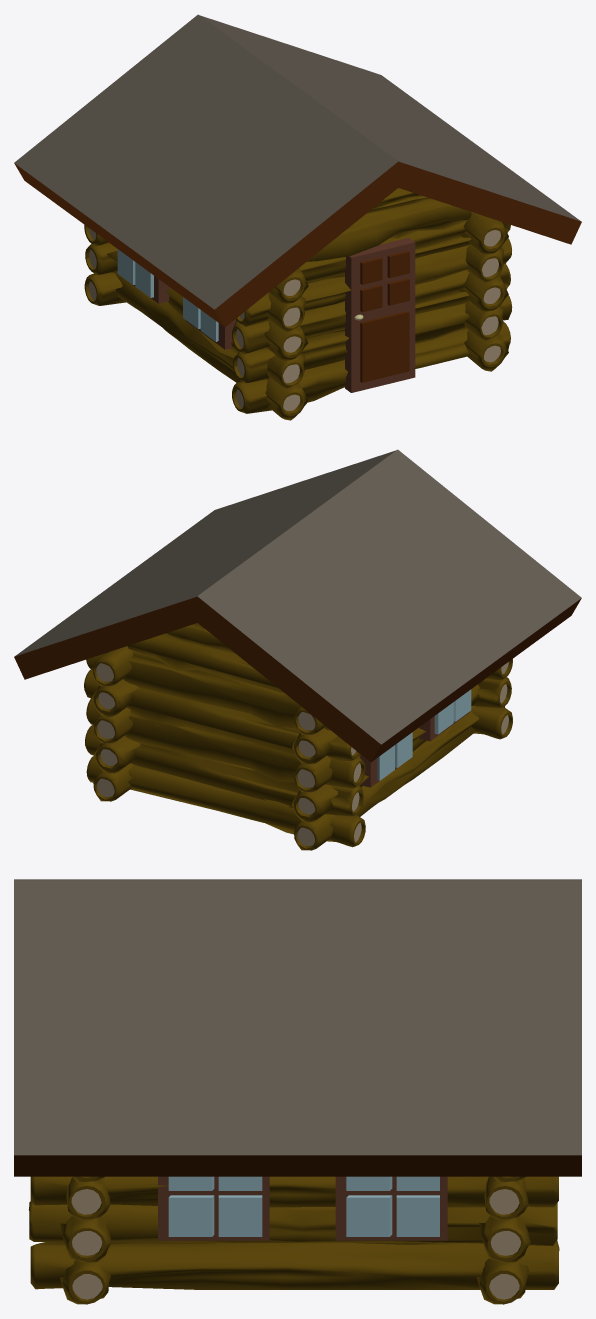
Rendered from forestExit.fbx.
The picture shows the model from 3 angles, top to bottom: view 1: azimuth 30°, elevation 25°; view 2: azimuth 150°, elevation 25°; view 3: azimuth 270°, elevation 25°; orthographic projection. The views are drawn at different scales.
Visible parts, largest first — view 1: roof2, roof1, maindoor, log30, log1, log13, log8, log14, log15, doorPanels6, log16, log9 (+15 smaller); view 2: roof2, roof1, log19, log20, log21, log17, log18, log1, log27, log9, log26, log25 (+9 smaller); view 3: roof1, log22, log23, log24, windowFrame (×2), glass4 (×2), glass5 (×2), log13, log18, log17, log8, log19 (+4 smaller).
Boxes of the visible parts, <box> form: roof2: <box>14,14,408,327</box>; roof1: <box>200,15,581,244</box>; maindoor: <box>345,237,415,392</box>; log30: <box>307,198,471,261</box>; log1: <box>112,271,308,420</box>; log13: <box>233,295,512,382</box>; log8: <box>232,321,510,413</box>; log14: <box>232,264,510,354</box>; log15: <box>236,237,511,326</box>; doorPanels6: <box>360,311,409,382</box>; log16: <box>299,212,510,282</box>; log9: <box>107,250,305,389</box>; roof2: <box>187,449,581,762</box>; roof1: <box>14,450,395,679</box>; log19: <box>86,698,365,788</box>; log20: <box>84,669,359,761</box>; log21: <box>86,646,330,730</box>; log17: <box>86,756,365,847</box>; log18: <box>85,725,363,816</box>; log1: <box>294,706,504,850</box>; log27: <box>127,633,283,692</box>; log9: <box>292,684,480,822</box>; log26: <box>92,646,132,686</box>; log25: <box>92,679,138,717</box>; roof1: <box>14,880,581,1176</box>; log22: <box>30,1240,559,1289</box>; log23: <box>28,1201,557,1245</box>; log24: <box>30,1176,558,1207</box>; windowFrame (×2): <box>158,1176,447,1240</box>; glass4 (×2): <box>168,1195,392,1236</box>; glass5 (×2): <box>218,1195,439,1236</box>; log13: <box>60,1216,111,1263</box>; log18: <box>479,1216,530,1263</box>; log17: <box>476,1258,529,1304</box>; log8: <box>60,1256,110,1304</box>; log19: <box>484,1176,528,1219</box>.
Size of the model in its own units: 21.74 by 13.74 by 20.56.
